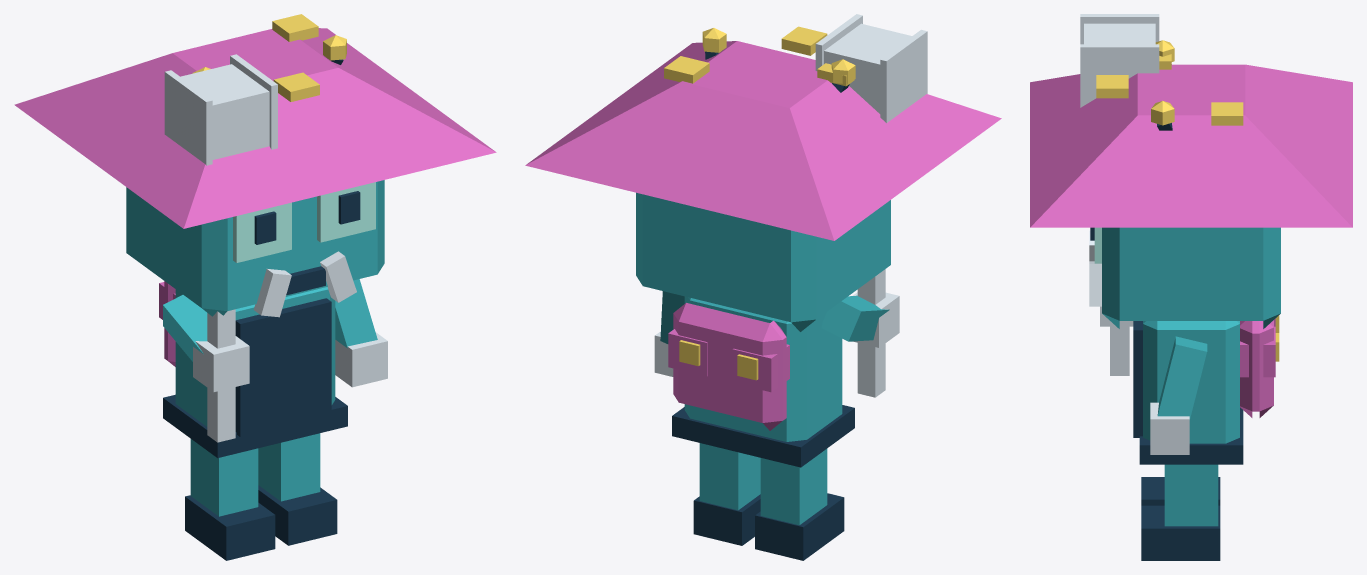
The model's file is weakener_r12.glb.
The picture shows the model from 3 angles, left to right: view 1: azimuth 30°, elevation 25°; view 2: azimuth 150°, elevation 25°; view 3: azimuth 270°, elevation 25°; orthographic projection. The views are drawn at different scales.
Parts seen in each view (by area): view 1: weakener_r12_mesh; view 2: weakener_r12_mesh; view 3: weakener_r12_mesh.
Boxes of the visible parts, left/top/right/bottom form: weakener_r12_mesh: left=14, top=14, right=496, bottom=560; weakener_r12_mesh: left=525, top=14, right=1001, bottom=560; weakener_r12_mesh: left=1030, top=14, right=1352, bottom=560.
Size of the model in its own units: 1.06 by 1.6 by 0.9931.
Materials: 1 (1 with a texture image).
